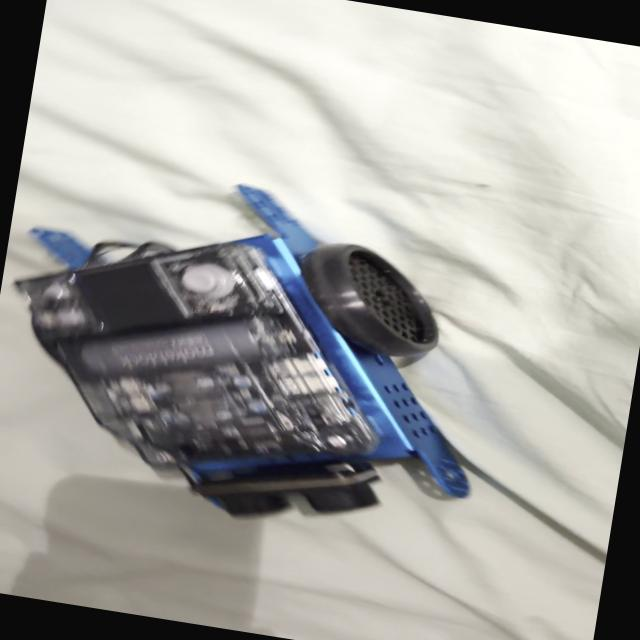mbot-detection: (0, 141, 540, 570)
